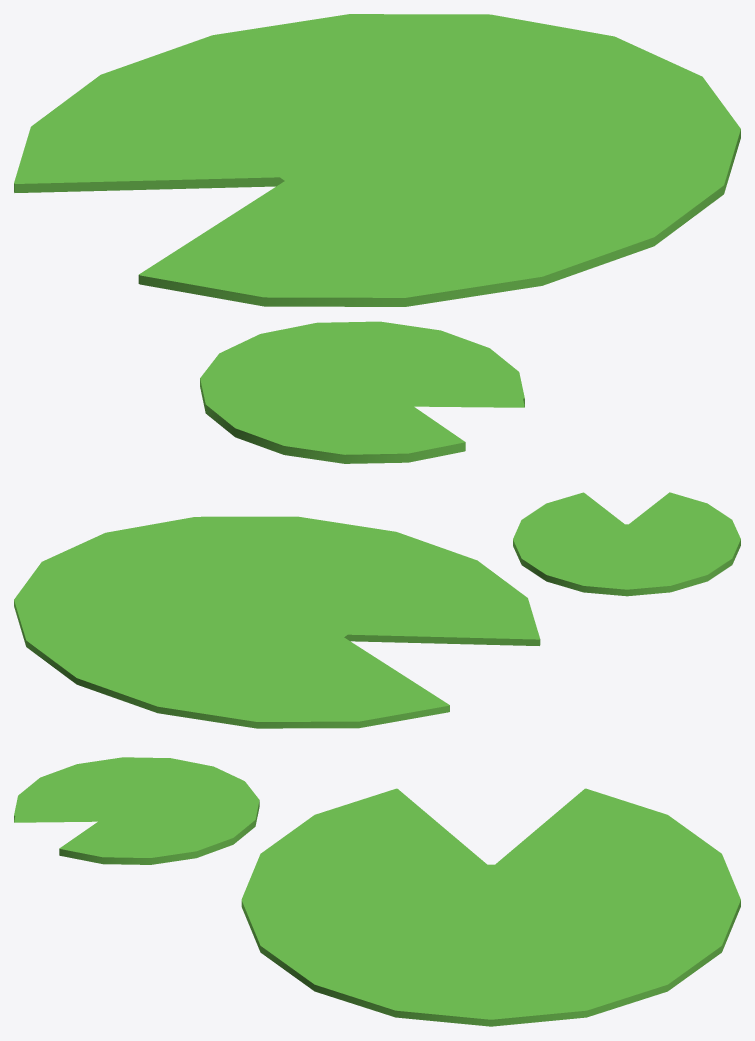
File: heye.gltf
3 views of the same model, one above another, from view 1: azimuth 30°, elevation 25°; view 2: azimuth 150°, elevation 25°; view 3: azimuth 270°, elevation 25° (orthographic). The views are drawn at different scales.
Parts seen in each view (by area): view 1: 圆柱体, 圆柱体.1, 金字塔; view 2: 圆柱体, 圆柱体.1, 金字塔; view 3: 圆柱体, 圆柱体.1.
Part boxes in pixels (x1,y1,x2,y2): 圆柱体: (14, 14, 740, 306); 圆柱体.1: (200, 321, 524, 463); 金字塔: (14, 177, 284, 192); 圆柱体: (14, 516, 540, 728); 圆柱体.1: (513, 492, 740, 596); 金字塔: (344, 634, 539, 645); 圆柱体: (241, 788, 740, 1026); 圆柱体.1: (14, 757, 259, 864).
Bounding box in the file's own units: 585 × 7.15 × 685.
